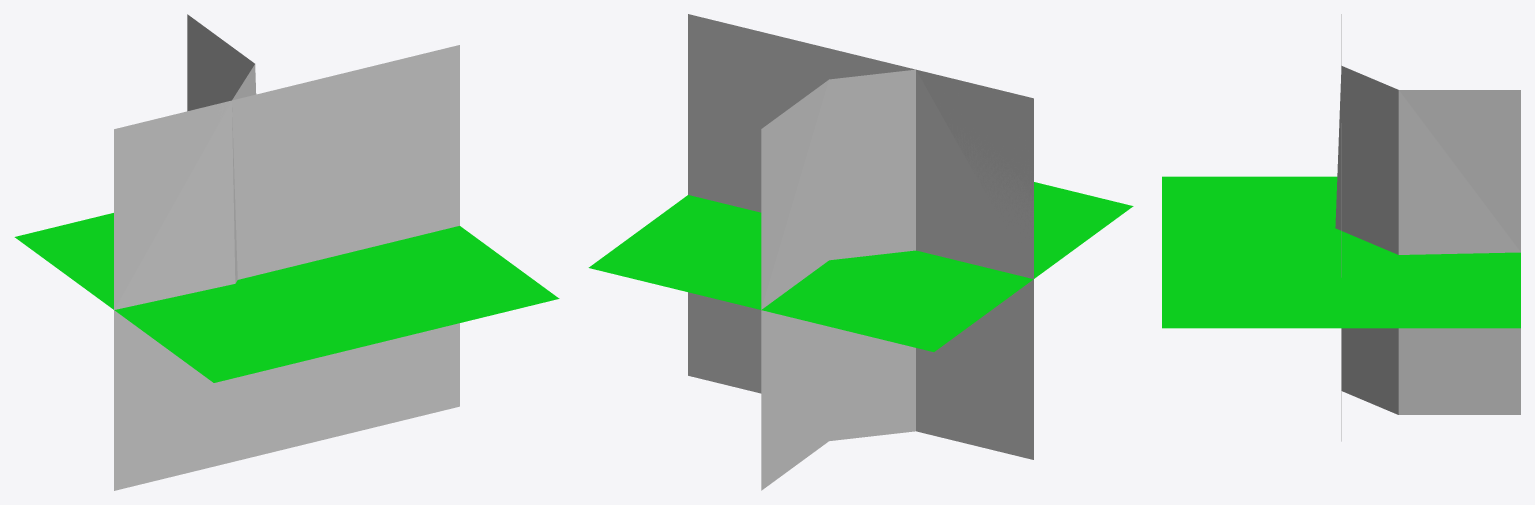
File: StepMods.fbx
3 renders of one model, left to right at view 1: azimuth 30°, elevation 25°; view 2: azimuth 150°, elevation 25°; view 3: azimuth 270°, elevation 25°, orthographic. The views are drawn at different scales.
Visible parts, largest first — view 1: Ramp, OutCornerRamp, RampReceiver, OutReceiver, InCornerRamp, Ground; view 2: Down, OutCornerRamp, Ramp, Ground, OutReceiver, InCornerRamp, RampReceiver; view 3: OutCornerRamp, InCornerRamp, Down, Ground, Ramp, OutReceiver.
Part boxes in pixels (box(x1,y1,x2,y2)): Ramp: box(114, 45, 459, 377); OutCornerRamp: box(114, 14, 559, 354); RampReceiver: box(202, 323, 459, 465); OutReceiver: box(97, 293, 231, 490); InCornerRamp: box(128, 289, 345, 382); Ground: box(14, 213, 215, 354); Down: box(761, 69, 1033, 309); OutCornerRamp: box(588, 70, 1033, 308); Ramp: box(688, 14, 1133, 253); Ground: box(658, 239, 1081, 351); OutReceiver: box(761, 263, 1033, 490); InCornerRamp: box(824, 237, 1085, 459); RampReceiver: box(688, 283, 1033, 459); OutCornerRamp: box(1162, 65, 1520, 328); InCornerRamp: box(1162, 176, 1520, 414); Down: box(1399, 90, 1520, 251); Ground: box(1231, 177, 1520, 291); Ramp: box(1162, 14, 1341, 276); OutReceiver: box(1341, 328, 1364, 397).
Bounding box in the file's own units: 200 × 200 × 200.
